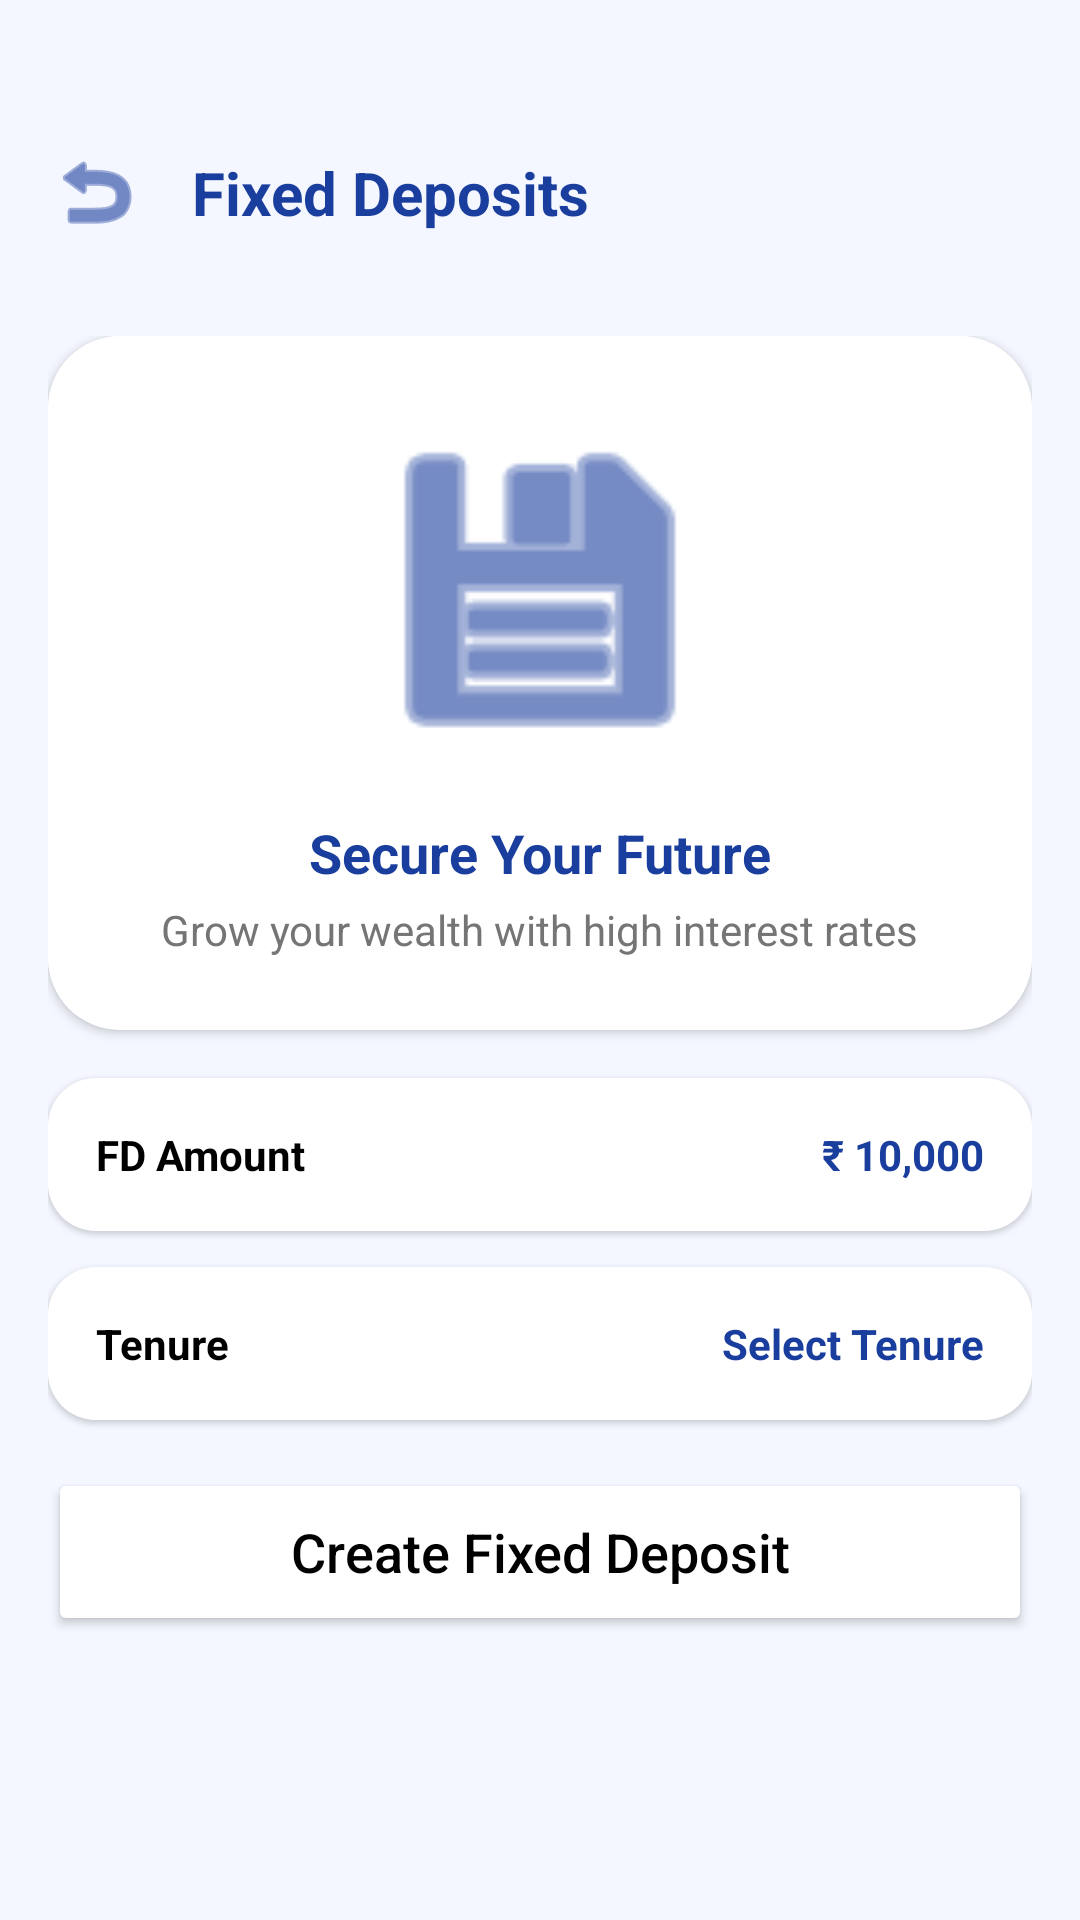

Icon click points for this 1080 x 1920 phone screenshot, format [x,y]:
revert: [97,192]
save: [540,589]
